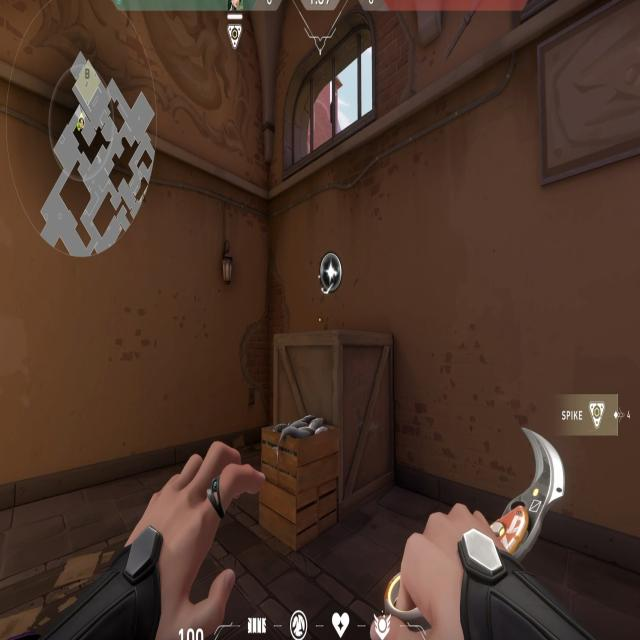B_Main_Wallbang: (253, 251, 348, 523)
Throwables: (281, 6, 376, 175)
